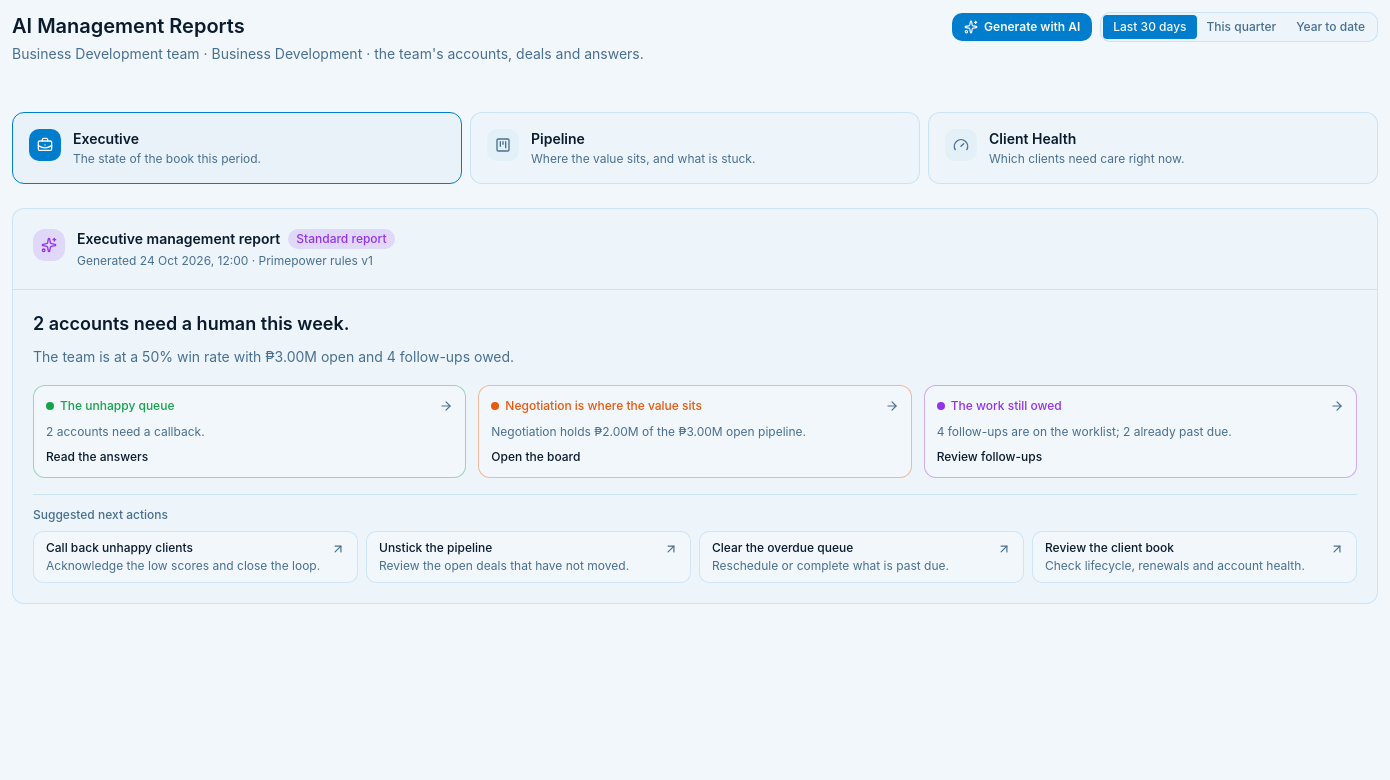
Test case: management reports page › keeps the current report and explains a cooldown rejection
The width and height of the screenshot is (1390, 780).
Click the button "Generate with AI": [1022, 27] box top-left (952, 13), bottom-right (1092, 41)
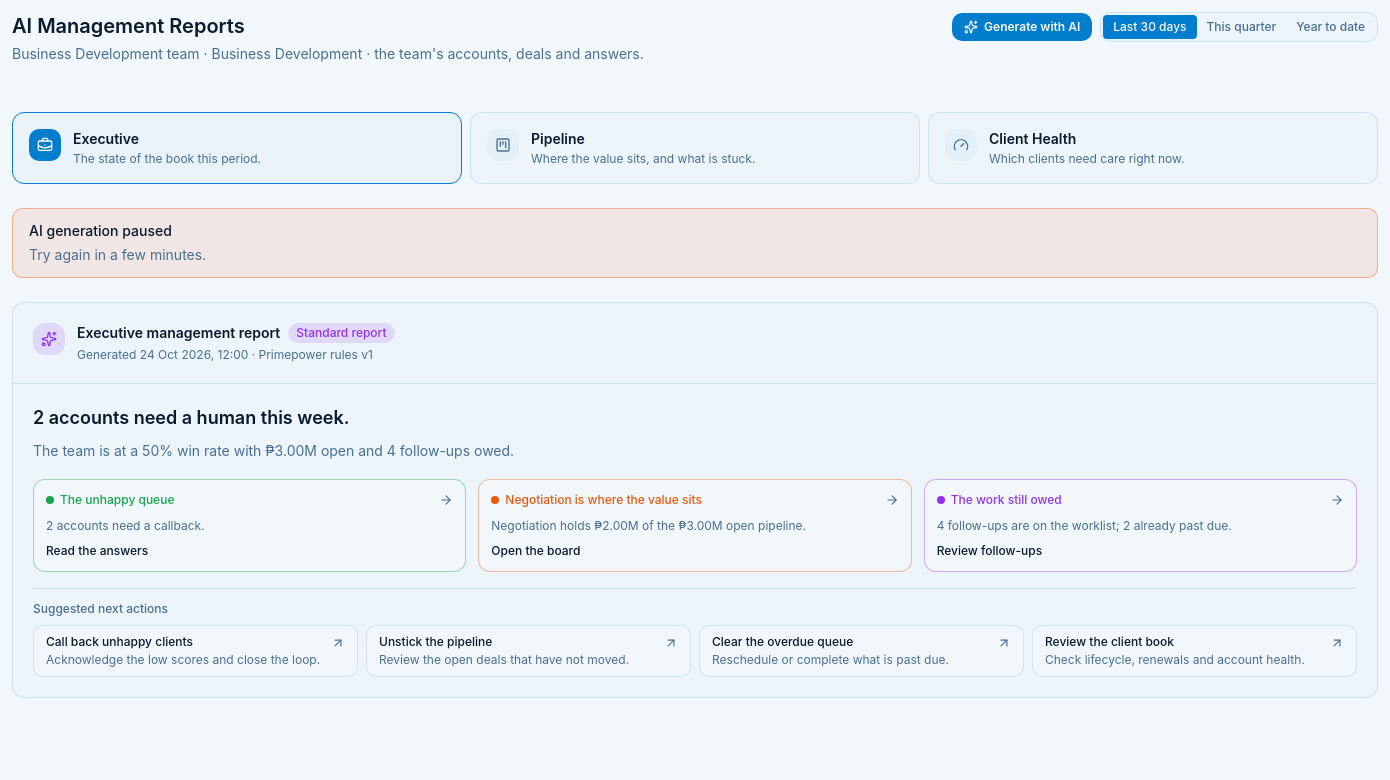
Check: the text "2 accounts need a human this week." is shown, box top-left (33, 407), bottom-right (349, 428)
Check: the text "AI generation paused" is shown, box top-left (29, 222), bottom-right (172, 239)
Check: the text "Try again in a few minutes." is shown, box top-left (29, 246), bottom-right (206, 263)
